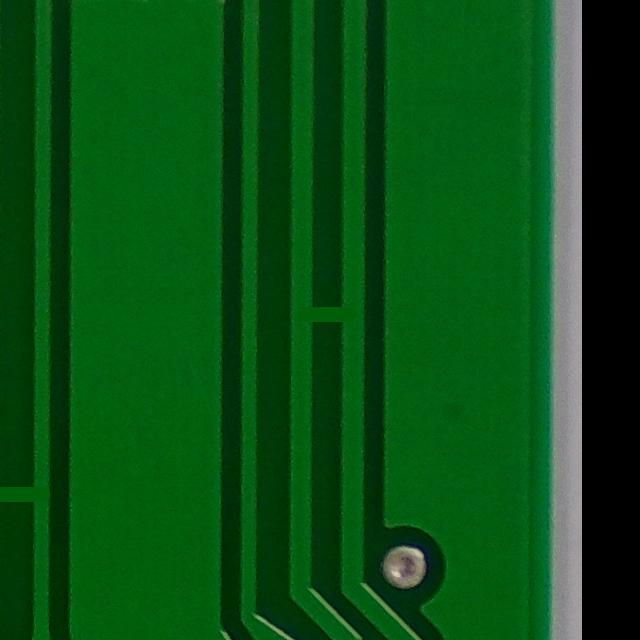short: (277, 293, 364, 348)
